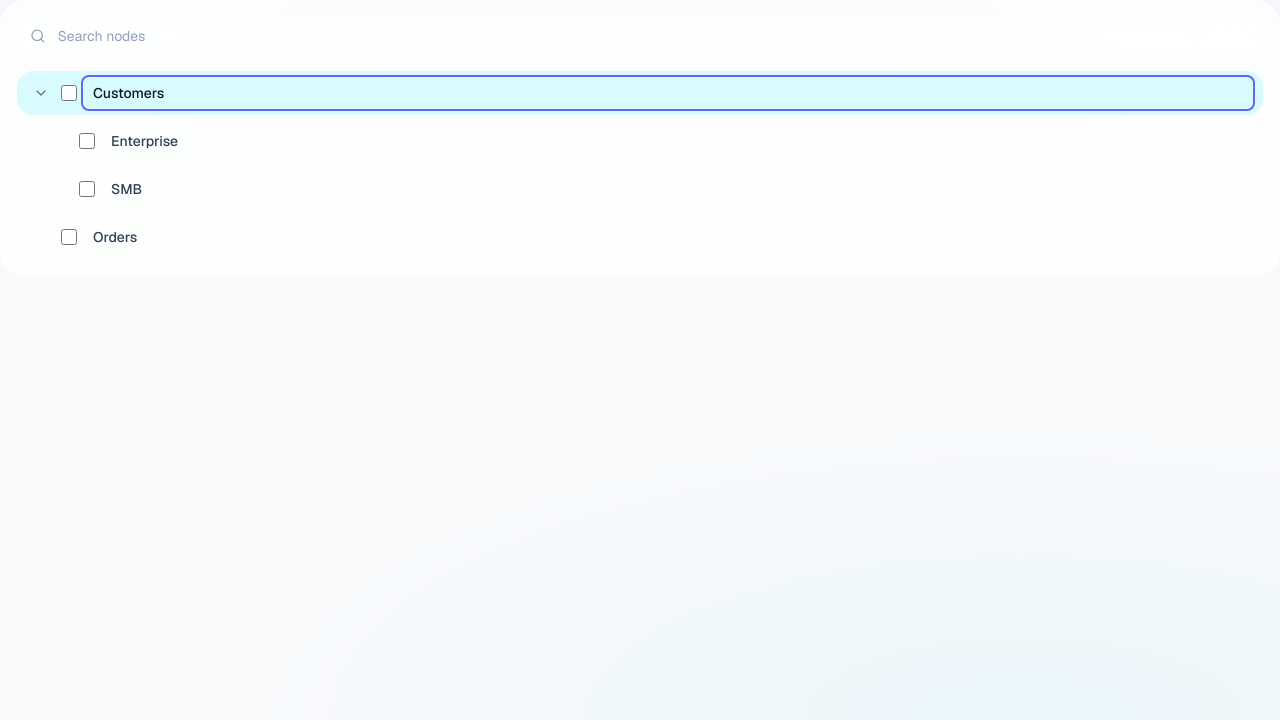
Test: TreeView › filters matching nodes and supports keyboard navigation
The width and height of the screenshot is (1280, 720).
Type "SMB" into the field named "Search tree".
click(654, 36); type("SMB")  # box [58,26,1250,46]
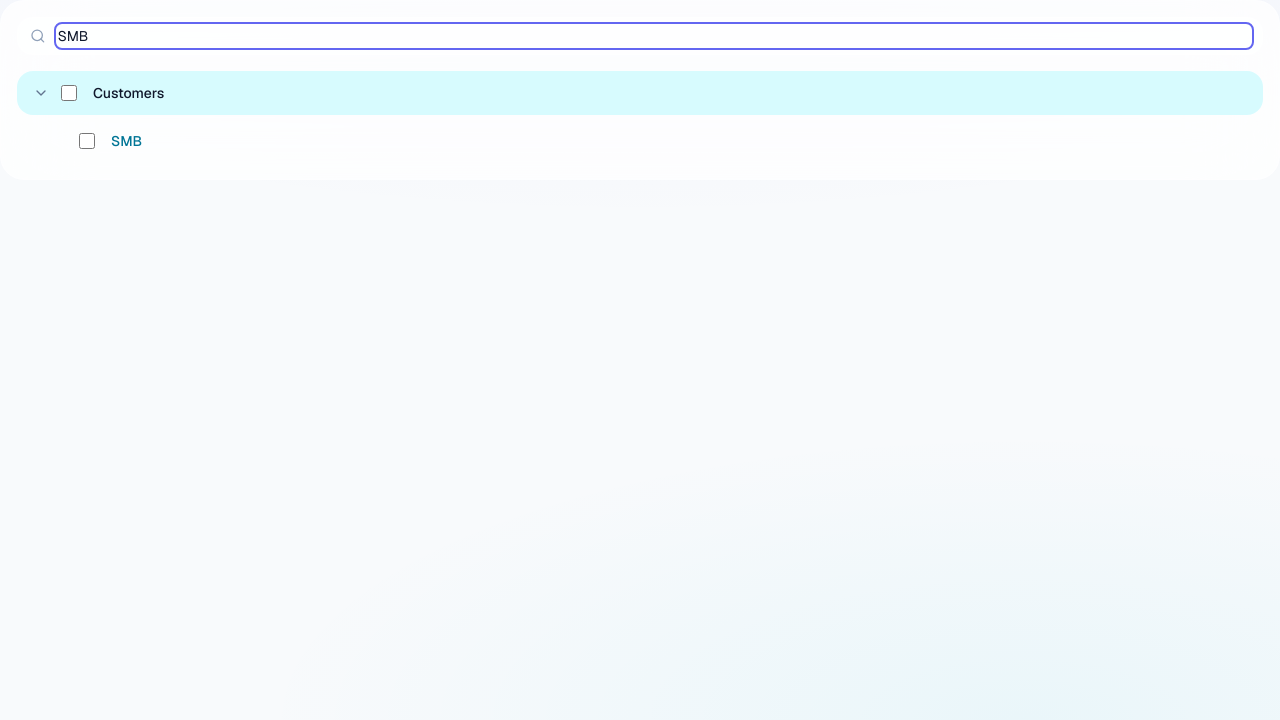
Expected: the list item "Customers" is shown, [85,79,1251,107]
Expected: the list item "Orders" is gone
Clear the field named "Search tree" at [654, 36], box [58,26,1250,46]
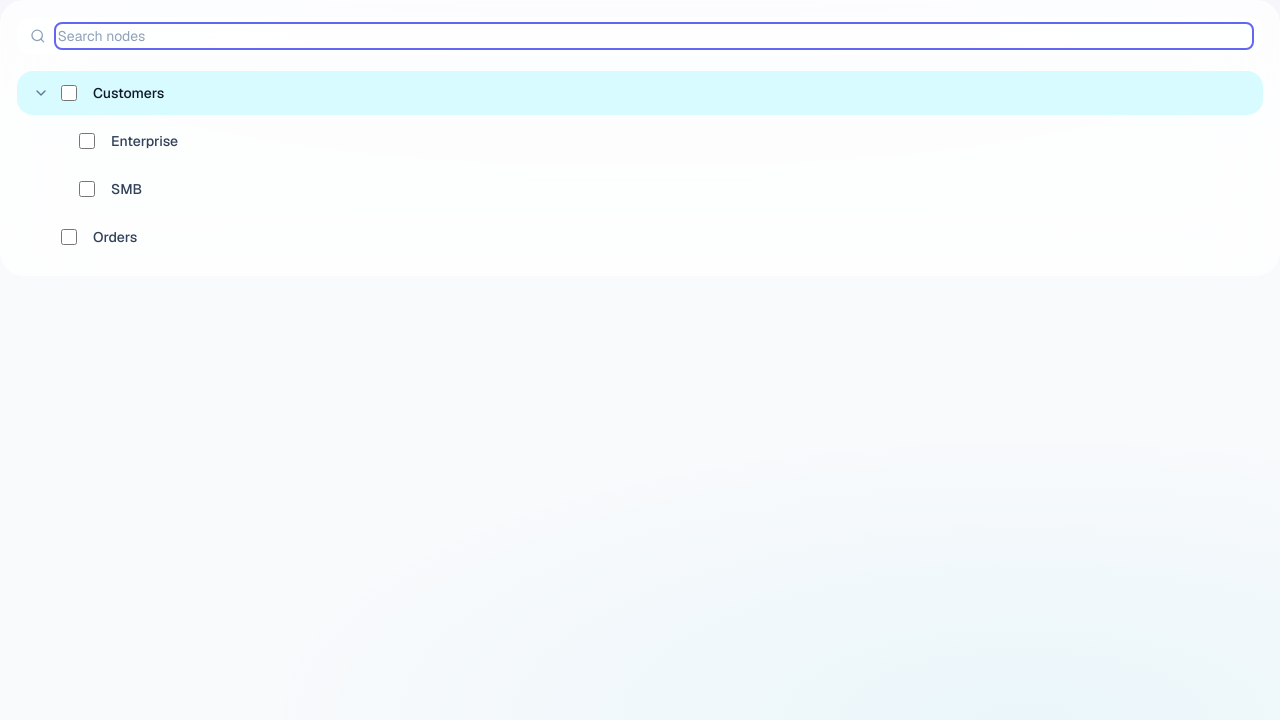
Press ArrowDown in the list item "Customers", box [85,79,1251,107]
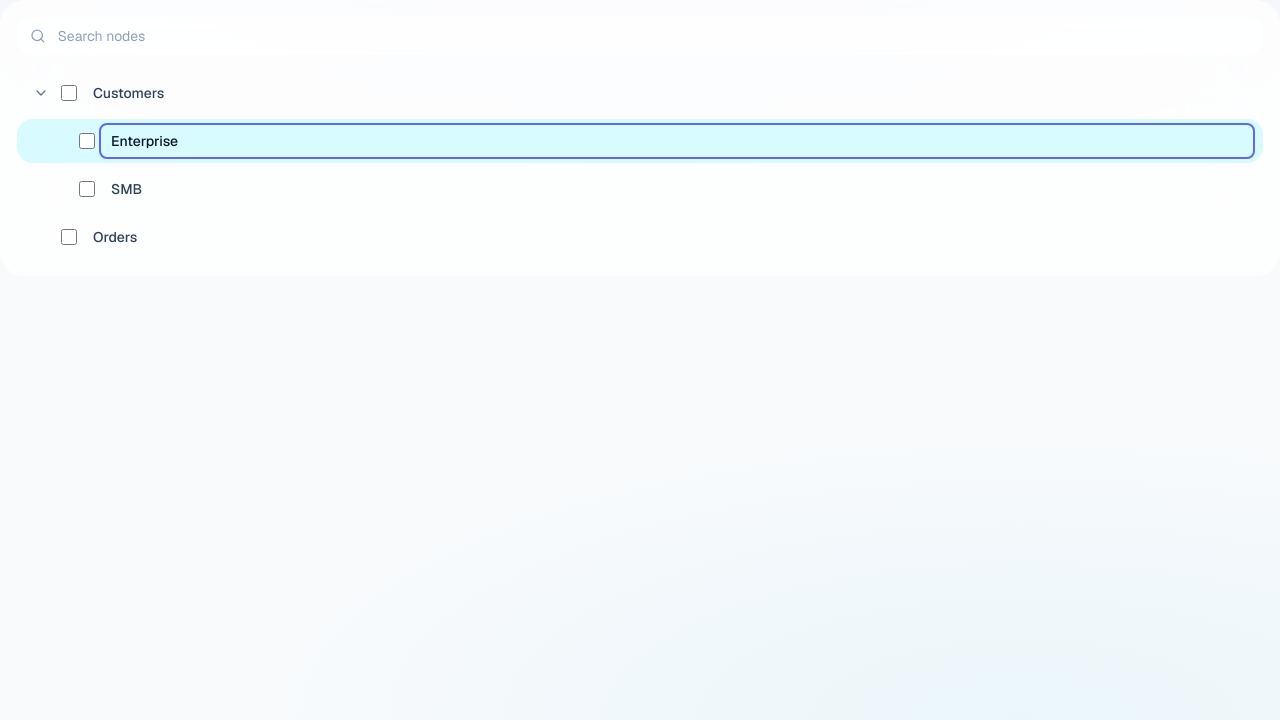
Press Space in the list item "Enterprise", box [103,127,1251,155]
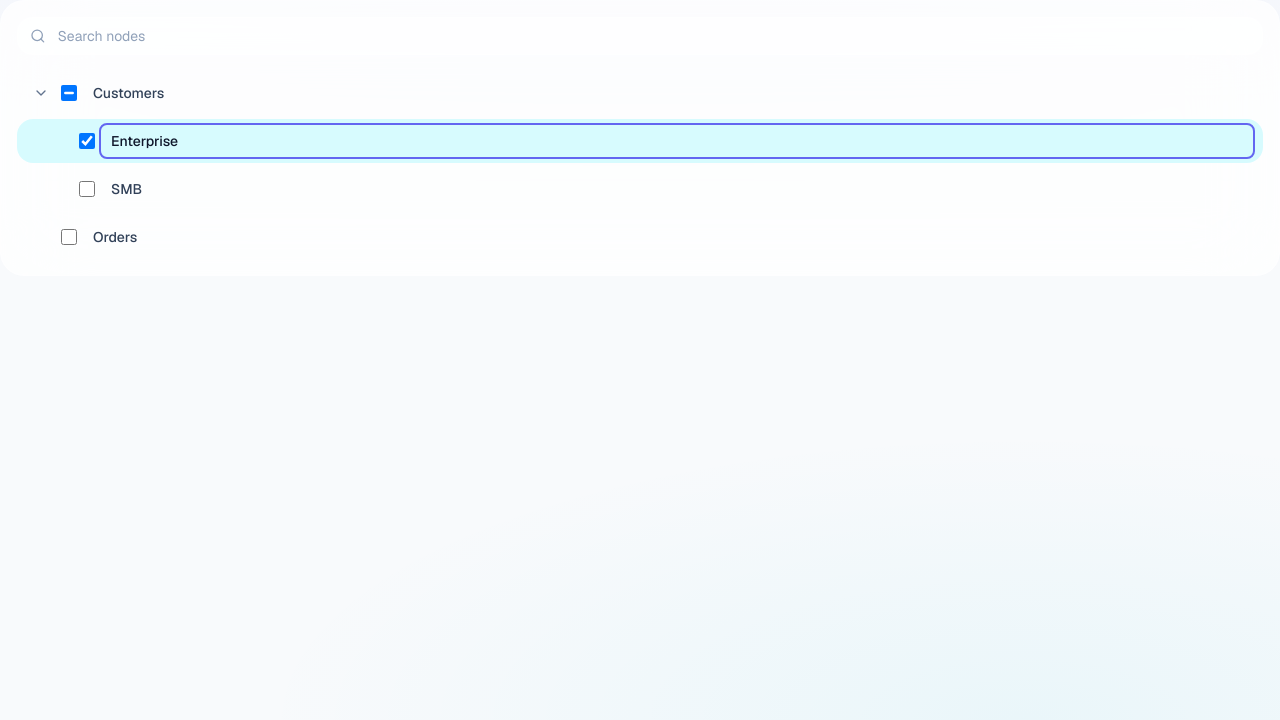
Expected: the checkbox named "Select Enterprise" is checked, [79,133,95,149]
